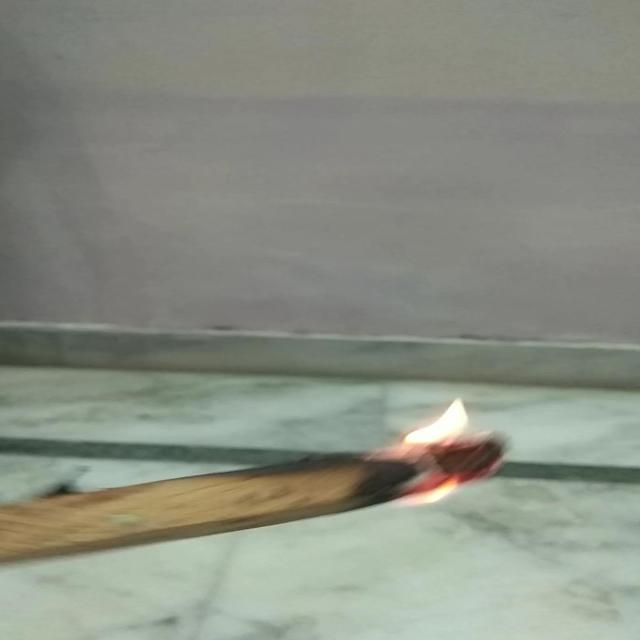smoke: (365, 396, 518, 506)
